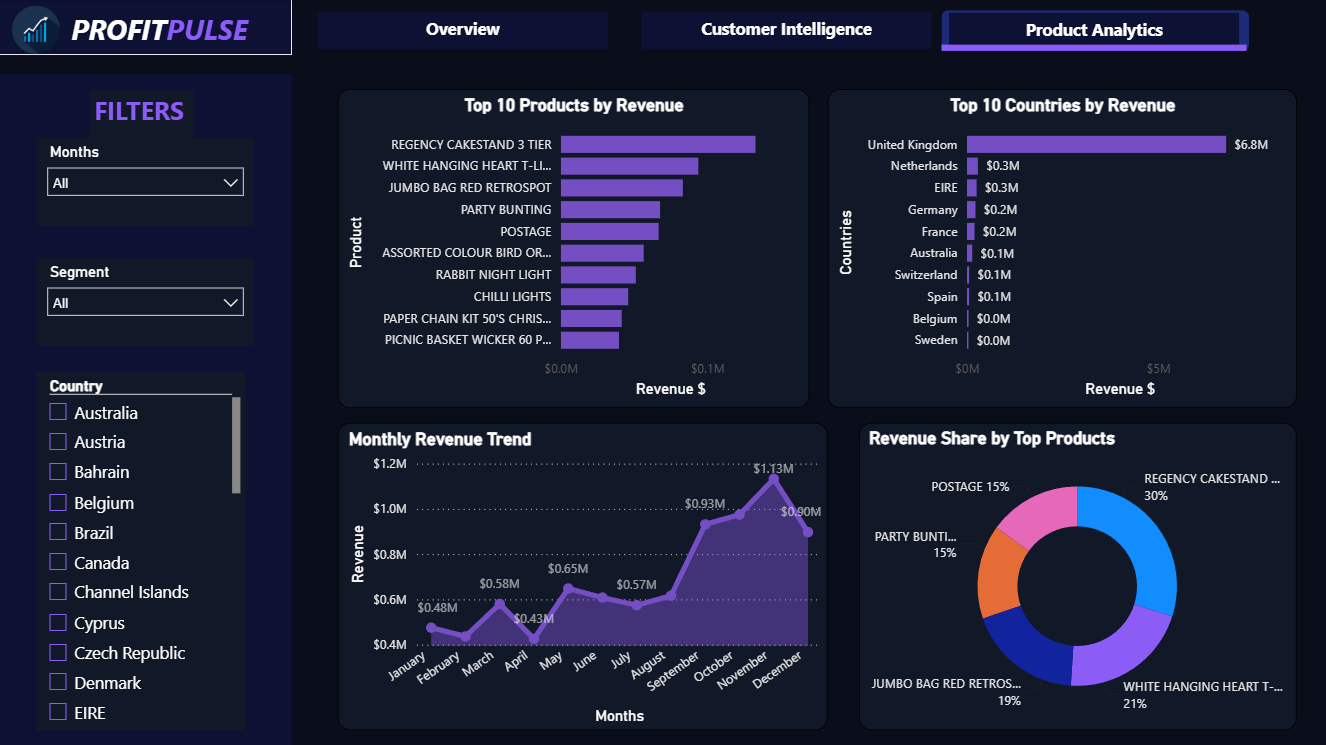

What the dashboard file says about the page in this screenshot:
{"tool":"powerbi","page":{"name":"Product Analytics","canvas":[1280,720],"ordinal":2},"visuals":[{"type":"shape","box":[0,72.4,282.3,647.9],"z":0},{"type":"shape","box":[909.7,10.9,296.8,39.8],"z":500,"group":"g1"},{"type":"textbox","box":[0,0,282.3,54.3],"z":1000},{"type":"textbox","box":[307.6,12.1,280,36.2],"z":2000},{"type":"textbox","box":[620.1,12.1,280,36.2],"z":3000},{"type":"textbox","box":[916.9,13.3,280,36.2],"z":3000,"group":"g1"},{"type":"slicer","fields":{"Values":["cleaned_retail_data.Country"]},"box":[36.2,359.5,201.5,346.2],"z":4000},{"type":"slicer","fields":{"Values":["rfm_segmentation.Segment"]},"box":[36.2,249.7,209.9,84.5],"z":5000},{"type":"slicer","fields":{"Values":["cleaned_retail_data.Month_Name"]},"box":[36.2,133.9,209.9,84.5],"z":6000},{"type":"textbox","box":[86.9,86.9,101.3,47.1],"z":7000},{"type":"image","box":[10.9,4.8,49.5,49.5],"z":8000},{"type":"shape","box":[909.7,41.1,294.4,12.1],"z":8001,"group":"g1"},{"type":"group","id":"g1","title":"Group 1","box":[909.7,10.9,296.8,42.2],"z":9000},{"type":"clusteredBarChart","title":"Top 10 Products by Revenue","fields":{"Category":["cleaned_retail_data.Description"],"Y":["Sum(cleaned_retail_data.Revenue)"]},"box":[326.9,86.9,454.8,307.6],"z":10000},{"type":"clusteredBarChart","title":"Top 10 Countries by Revenue","fields":{"Y":["Sum(cleaned_retail_data.Revenue)"],"Category":["cleaned_retail_data.Country"]},"box":[799.9,86.9,452.4,307.6],"z":11000},{"type":"areaChart","title":"Monthly Revenue Trend","fields":{"Category":["cleaned_retail_data.Month_Name"],"Y":["Sum(cleaned_retail_data.Revenue)"]},"box":[326.9,409,472.9,296.8],"z":12000},{"type":"donutChart","title":"Revenue Share by Top Products","fields":{"Category":["cleaned_retail_data.Description"],"Y":["Sum(cleaned_retail_data.Revenue)"]},"box":[830,409,422,297],"z":13000},{"type":"actionButton","box":[307,12,280,36],"z":14000},{"type":"actionButton","box":[620,12,280,36],"z":15000}]}

Visuals, with their boxes in screenshot pixels (x1, y1, x2, y2), scaled from the page's 1280x720 canvas onto the 1326x745 screenshot:
shape: box=[0, 75, 292, 744]
shape: box=[942, 11, 1250, 52]
textbox: box=[0, 0, 292, 56]
textbox: box=[319, 13, 609, 50]
textbox: box=[642, 13, 932, 50]
textbox: box=[950, 14, 1240, 51]
slicer - cleaned_retail_data.Country: box=[38, 372, 246, 730]
slicer - rfm_segmentation.Segment: box=[38, 258, 255, 346]
slicer - cleaned_retail_data.Month_Name: box=[38, 139, 255, 226]
textbox: box=[90, 90, 195, 139]
image: box=[11, 5, 63, 56]
shape: box=[942, 43, 1247, 55]
"Group 1" group: box=[942, 11, 1250, 55]
"Top 10 Products by Revenue" clusteredBarChart: box=[339, 90, 810, 408]
"Top 10 Countries by Revenue" clusteredBarChart: box=[829, 90, 1297, 408]
"Monthly Revenue Trend" areaChart: box=[339, 423, 829, 730]
"Revenue Share by Top Products" donutChart: box=[860, 423, 1297, 731]
actionButton: box=[318, 12, 608, 50]
actionButton: box=[642, 12, 932, 50]
